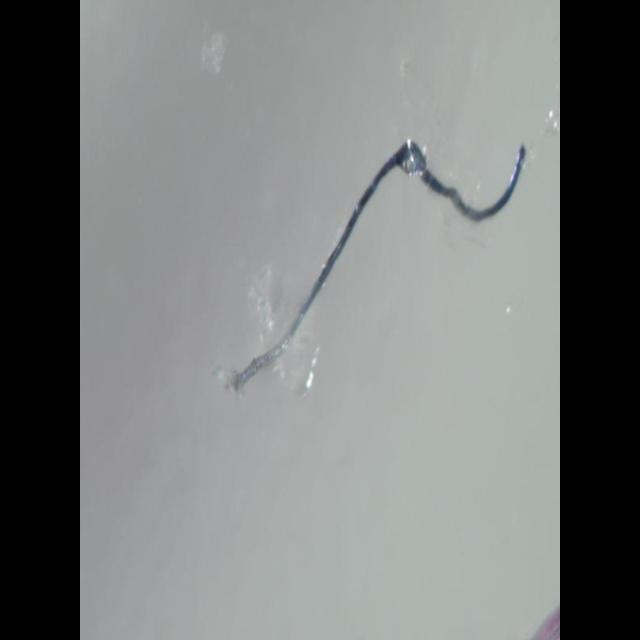Fibre: (213, 134, 527, 398)
